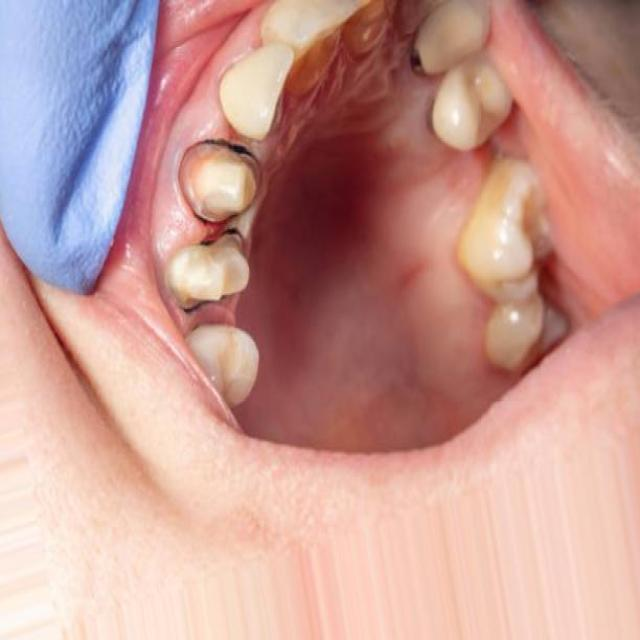caries: (163, 227, 257, 314), (176, 135, 262, 223)
